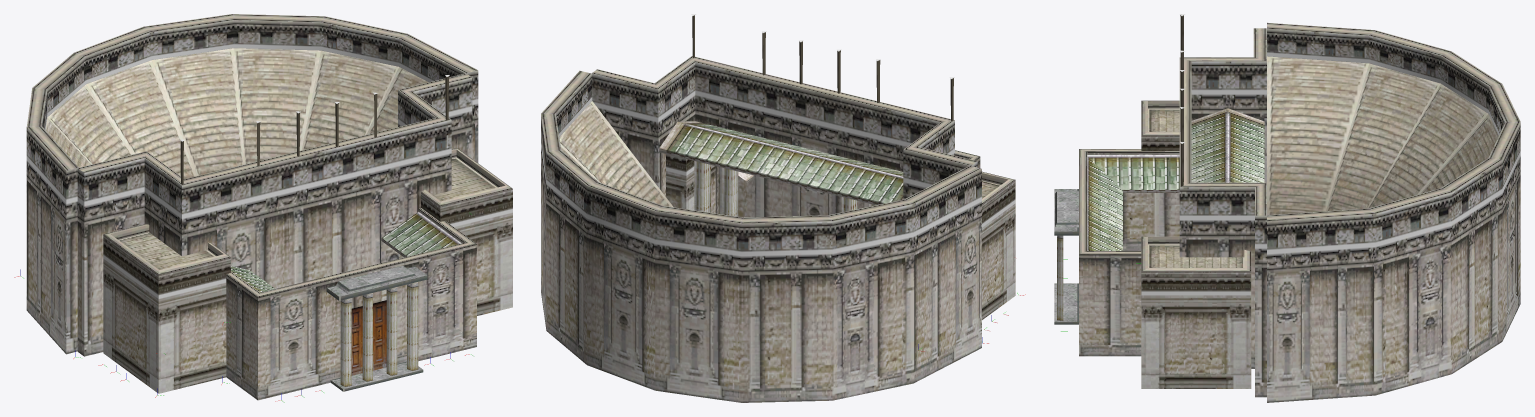
File: greek-wonder-poseidon.glb
3 renders of one model, left to right at view 1: azimuth 30°, elevation 25°; view 2: azimuth 150°, elevation 25°; view 3: azimuth 270°, elevation 25°, orthographic. The views are drawn at different scales.
Visible parts, largest first — view 1: building g wonderModel; view 2: building g wonderModel; view 3: building g wonderModel.
Boxes of the visible parts, bbox=[...] form: building g wonderModel: bbox=[26, 14, 512, 400]; building g wonderModel: bbox=[541, 14, 1015, 402]; building g wonderModel: bbox=[1054, 14, 1520, 402].
Bounding box in the file's own units: 16.04 × 8.47 × 15.88.
4 materials, 3 textured.
